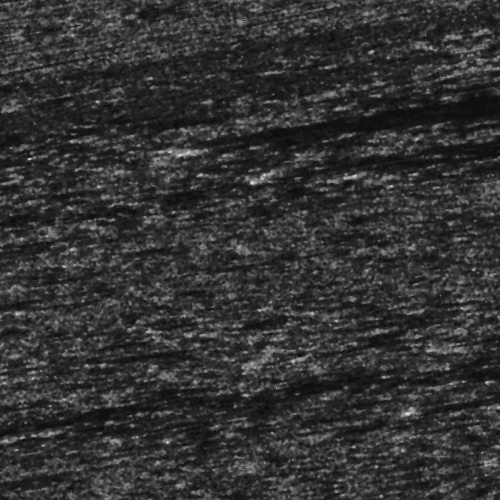object: (351, 426, 466, 439), (356, 369, 481, 380), (263, 170, 326, 183), (329, 187, 412, 196), (0, 384, 22, 389), (463, 440, 494, 443)
shadow: (295, 170, 500, 183), (2, 384, 348, 389), (409, 426, 500, 439), (371, 187, 500, 196), (419, 369, 500, 380), (0, 207, 45, 210)
